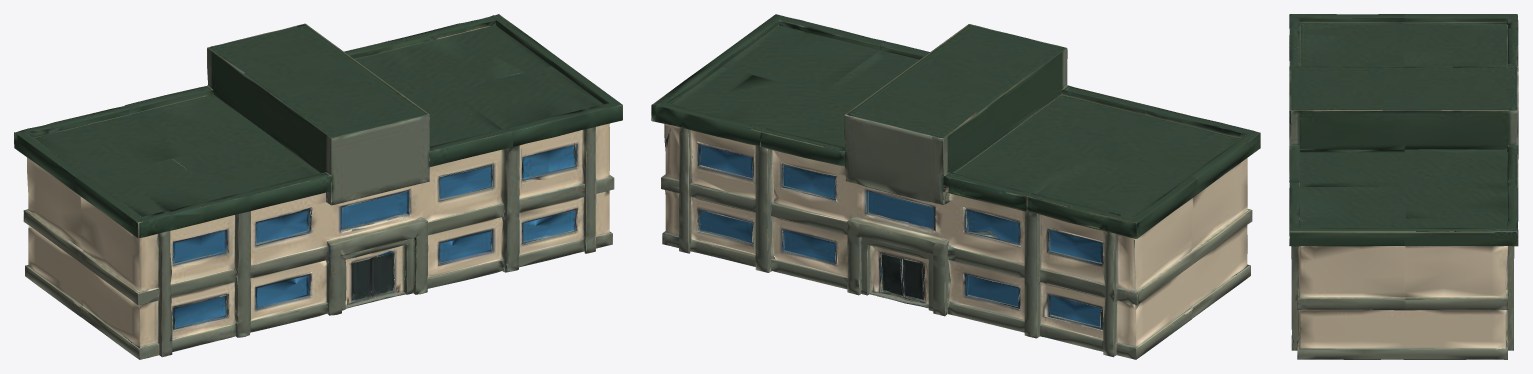
File: grenade-office-fractured-low.glb
3 renders of one model, left to right at view 1: azimuth 30°, elevation 25°; view 2: azimuth 150°, elevation 25°; view 3: azimuth 270°, elevation 25°, orthographic. The views are drawn at different scales.
Parts seen in each view (by area): view 1: chunk_026, chunk_005, chunk_002, chunk_016, chunk_011, chunk_014, chunk_017, chunk_032, chunk_023, chunk_029, chunk_007, chunk_038 (+17 smaller); view 2: chunk_024, chunk_016, chunk_000, chunk_003, chunk_009, chunk_015, chunk_012, chunk_030, chunk_027, chunk_021, chunk_007, chunk_018 (+17 smaller); view 3: chunk_034, chunk_033, chunk_043, chunk_035, chunk_007, chunk_040, chunk_025, chunk_037, chunk_041, chunk_038, chunk_036, chunk_042 (+9 smaller).
Boxes of the visible parts, left/top/right/bottom form: chunk_026: left=297, top=89, right=429, bottom=200; chunk_005: left=97, top=209, right=235, bottom=299; chunk_002: left=102, top=275, right=235, bottom=359; chunk_016: left=145, top=74, right=297, bottom=179; chunk_011: left=227, top=253, right=330, bottom=337; chunk_014: left=227, top=192, right=331, bottom=276; chunk_017: left=201, top=113, right=331, bottom=219; chunk_032: left=420, top=145, right=522, bottom=228; chunk_023: left=321, top=177, right=429, bottom=256; chunk_029: left=404, top=206, right=522, bottom=288; chunk_007: left=49, top=139, right=200, bottom=213; chunk_038: left=490, top=165, right=614, bottom=266; chunk_024: left=844, top=89, right=975, bottom=200; chunk_016: left=977, top=73, right=1130, bottom=179; chunk_000: left=1040, top=274, right=1173, bottom=359; chunk_003: left=1040, top=213, right=1173, bottom=299; chunk_009: left=944, top=253, right=1069, bottom=338; chunk_015: left=942, top=113, right=1074, bottom=219; chunk_012: left=943, top=192, right=1048, bottom=276; chunk_030: left=752, top=145, right=856, bottom=232; chunk_027: left=753, top=206, right=882, bottom=291; chunk_021: left=846, top=177, right=954, bottom=256; chunk_007: left=1075, top=138, right=1227, bottom=211; chunk_018: left=847, top=233, right=959, bottom=316; chunk_034: left=1333, top=110, right=1456, bottom=193; chunk_033: left=1426, top=110, right=1518, bottom=193; chunk_043: left=1351, top=193, right=1454, bottom=249; chunk_035: left=1289, top=110, right=1397, bottom=193; chunk_007: left=1351, top=14, right=1454, bottom=61; chunk_040: left=1361, top=246, right=1445, bottom=305; chunk_025: left=1351, top=66, right=1454, bottom=113; chunk_037: left=1361, top=304, right=1443, bottom=359; chunk_041: left=1291, top=246, right=1362, bottom=304; chunk_038: left=1291, top=291, right=1363, bottom=359; chunk_036: left=1443, top=293, right=1513, bottom=359; chunk_042: left=1419, top=188, right=1518, bottom=253.
Size of the model in its own units: 0.9497 by 0.3359 by 0.4229.
1 material, 1 textured.
